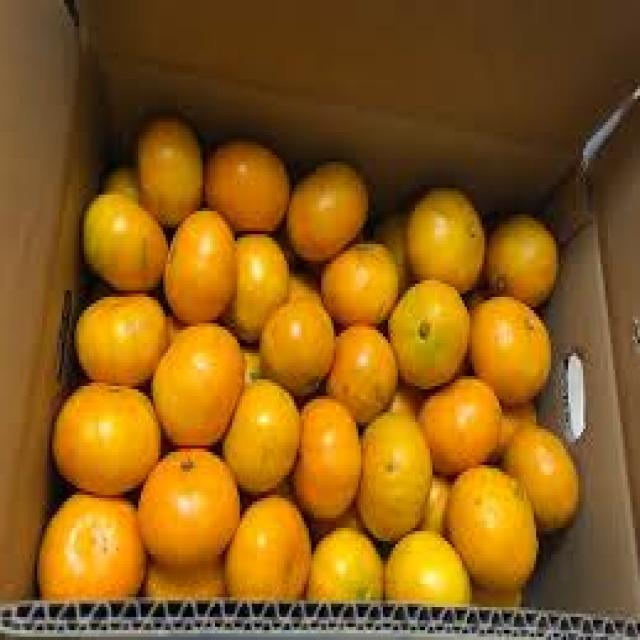organic waste: (50, 379, 158, 495), (32, 488, 143, 594), (445, 458, 534, 590), (136, 446, 240, 558), (148, 320, 242, 442), (79, 188, 166, 294), (220, 491, 309, 594), (356, 412, 427, 541), (497, 416, 578, 528), (467, 290, 549, 399), (284, 155, 366, 264), (74, 290, 173, 380), (200, 132, 287, 234), (400, 182, 482, 290), (160, 201, 234, 320), (386, 270, 464, 382), (287, 392, 358, 512), (220, 376, 296, 488), (418, 376, 502, 472), (134, 106, 200, 224), (482, 204, 556, 304), (316, 238, 398, 324), (254, 294, 334, 382), (222, 231, 286, 340), (321, 320, 393, 416), (383, 524, 470, 600), (304, 525, 380, 597), (138, 548, 222, 590), (296, 495, 356, 538), (496, 390, 534, 456), (415, 469, 452, 531), (373, 205, 408, 267), (386, 376, 422, 416), (472, 581, 516, 607), (106, 165, 136, 191), (160, 307, 180, 340), (242, 340, 260, 373)
